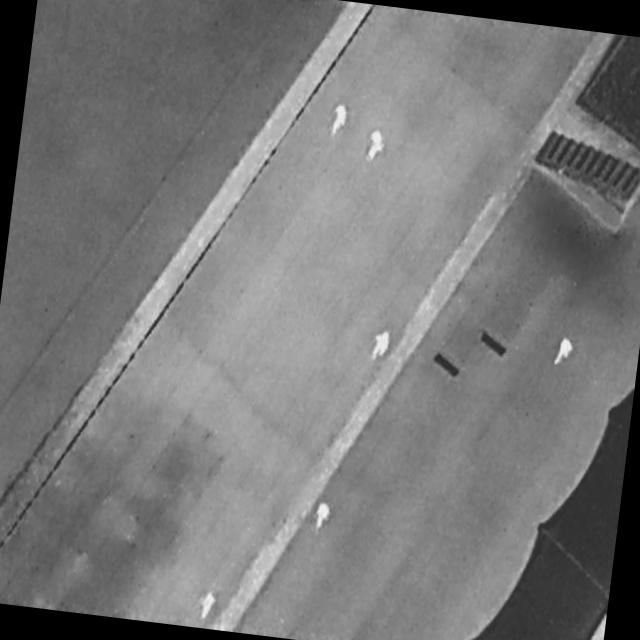person: (551, 330, 580, 375), (366, 323, 396, 366), (365, 128, 387, 166), (330, 102, 349, 136), (315, 498, 333, 532), (201, 592, 217, 622)
